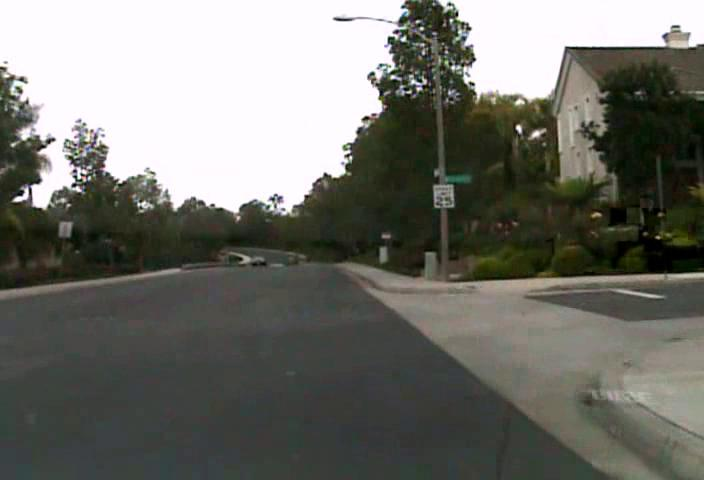speedLimit25: (432, 182, 455, 209)
